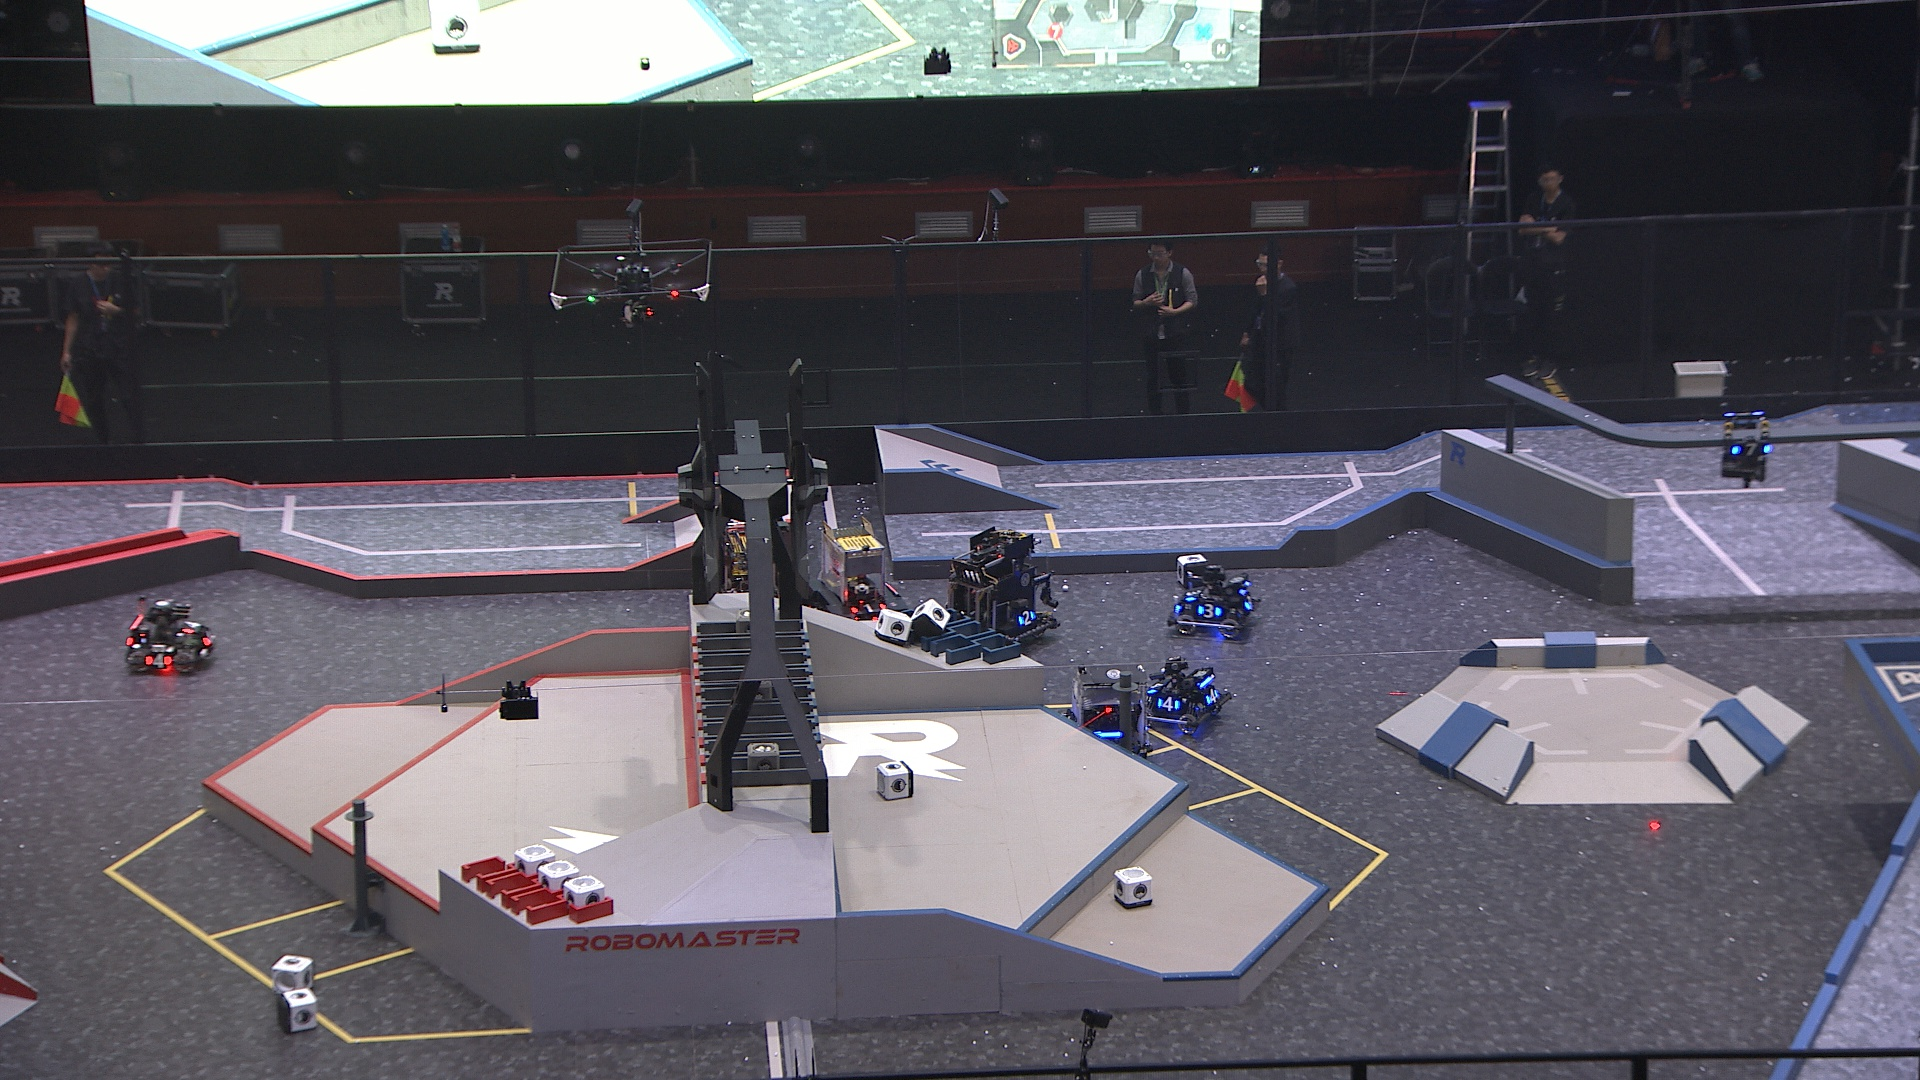armor: (1730, 439, 1770, 458), (852, 599, 887, 618), (141, 651, 173, 666), (1015, 608, 1038, 628), (1145, 679, 1168, 698), (1155, 698, 1182, 713), (1193, 604, 1221, 618), (1204, 684, 1221, 705), (1182, 585, 1200, 604), (181, 618, 200, 633), (1242, 591, 1255, 612), (202, 628, 216, 646)
car: (940, 524, 1062, 651), (712, 517, 814, 632), (812, 518, 910, 636), (1058, 662, 1158, 771), (123, 595, 225, 669), (1145, 651, 1233, 737), (1162, 566, 1258, 640)
watcher: (1721, 409, 1774, 489)
